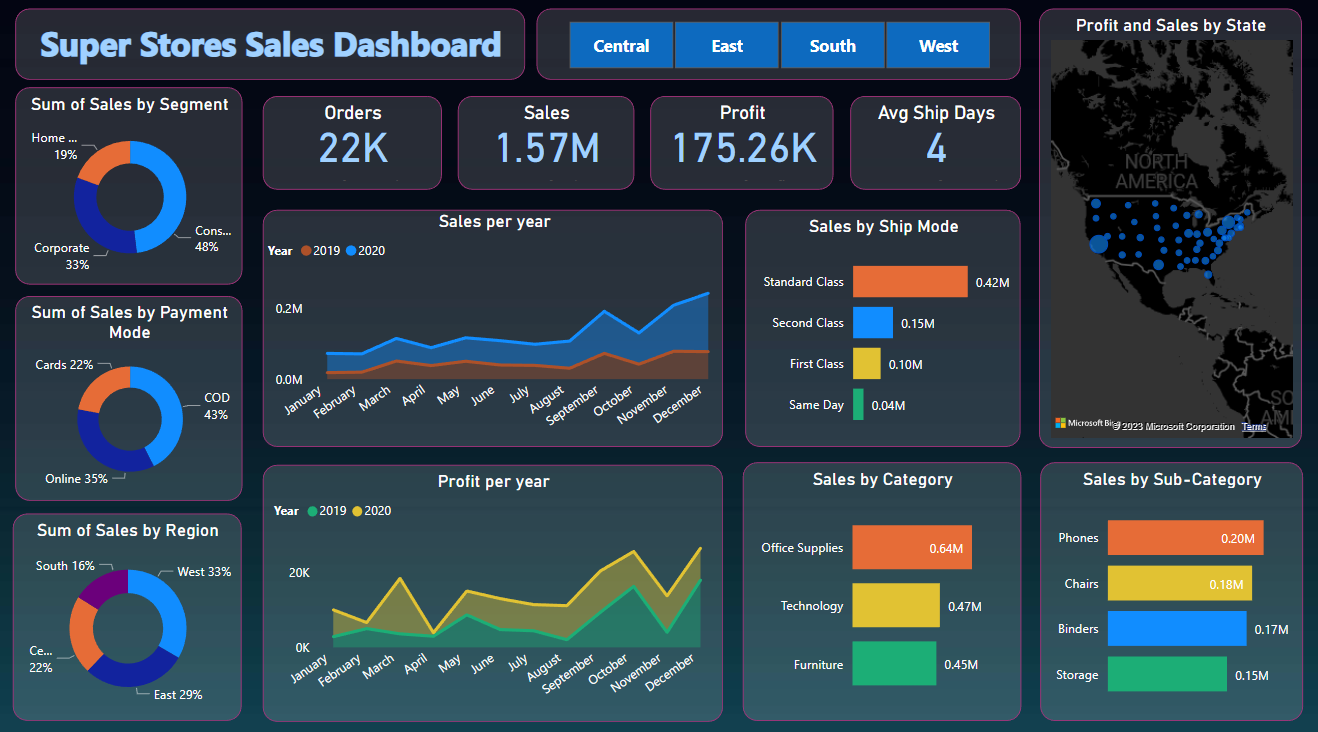

What the dashboard file says about the page in this screenshot:
{"tool":"powerbi","page":{"name":"Page 1","canvas":[1280,720],"ordinal":0},"visuals":[{"type":"clusteredBarChart","title":"Sales by Category","fields":{"Category":["SuperStore_Sales_Dataset.Category"],"Y":["Sum(SuperStore_Sales_Dataset.Sales)"]},"box":[717.1,455.2,268.7,249.5],"z":0},{"type":"clusteredBarChart","title":"Sales by Sub-Category","fields":{"Y":["Sum(SuperStore_Sales_Dataset.Sales)"],"Category":["SuperStore_Sales_Dataset.Sub-Category"]},"box":[1005,455.2,253.6,249.5],"z":1000},{"type":"clusteredBarChart","title":"Sales by Ship Mode","fields":{"Y":["Sum(SuperStore_Sales_Dataset.Sales)"],"Category":["SuperStore_Sales_Dataset.Ship Mode"]},"box":[719.8,211.1,266,229],"z":2000},{"type":"stackedAreaChart","title":" Sales per year","fields":{"Category":["SuperStore_Sales_Dataset.Order Date.Variation.Date Hierarchy.Month"],"Series":["SuperStore_Sales_Dataset.Order Date.Variation.Date Hierarchy.Year"],"Y":["Sum(SuperStore_Sales_Dataset.Sales)"]},"box":[255,211.1,444.2,229],"z":3000},{"type":"stackedAreaChart","title":"Profit per year","fields":{"Category":["SuperStore_Sales_Dataset.Order Date.Variation.Date Hierarchy.Month"],"Series":["SuperStore_Sales_Dataset.Order Date.Variation.Date Hierarchy.Year"],"Y":["Sum(SuperStore_Sales_Dataset.Profit)"]},"box":[255,456.6,444.2,248.2],"z":4000},{"type":"map","title":"Profit and Sales by State","fields":{"Category":["SuperStore_Sales_Dataset.State"],"Size":["Sum(SuperStore_Sales_Dataset.Sales)"]},"box":[1003.6,16.5,253.6,423.7],"z":5000},{"type":"donutChart","fields":{"Category":["SuperStore_Sales_Dataset.Segment"],"Y":["Sum(SuperStore_Sales_Dataset.Sales)"]},"box":[15.1,93.2,219.4,190.6],"z":6000},{"type":"donutChart","fields":{"Category":["SuperStore_Sales_Dataset.Payment Mode"],"Y":["Sum(SuperStore_Sales_Dataset.Sales)"]},"box":[15.1,294.8,219.4,197.4],"z":7000},{"type":"slicer","fields":{"Values":["SuperStore_Sales_Dataset.Region"]},"box":[518.3,16.5,467.5,68.6],"z":8000},{"type":"textbox","box":[15.1,16.5,492.2,68.6],"z":9000},{"type":"card","title":"Sales","fields":{"Values":["Sum(SuperStore_Sales_Dataset.Sales)"]},"box":[442.8,101.5,170,90.5],"z":10000},{"type":"card","title":"Orders","fields":{"Values":["Sum(SuperStore_Sales_Dataset.Quantity)"]},"box":[255,101.5,172.8,90.5],"z":11000},{"type":"card","title":"Profit","fields":{"Values":["Sum(SuperStore_Sales_Dataset.Profit)"]},"box":[627.9,101.5,176.9,90.5],"z":12000},{"type":"card","title":"Avg Ship Days","fields":{"Values":["Avg(SuperStore_Sales_Dataset.AvgDelivery)"]},"box":[821.3,101.5,164.5,90.5],"z":13000},{"type":"donutChart","fields":{"Y":["Sum(SuperStore_Sales_Dataset.Sales)"],"Category":["SuperStore_Sales_Dataset.Region"]},"box":[13.7,504.5,220.7,200.2],"z":14000}]}

Visuals, with their boxes in screenshot pixels (x1, y1, x2, y2), scaled from the page's 1280x720 canvas onto the 1318x732 screenshot:
"Sales by Category" clusteredBarChart: box=[738, 463, 1015, 716]
"Sales by Sub-Category" clusteredBarChart: box=[1035, 463, 1296, 716]
"Sales by Ship Mode" clusteredBarChart: box=[741, 215, 1015, 447]
" Sales per year" stackedAreaChart: box=[263, 215, 720, 447]
"Profit per year" stackedAreaChart: box=[263, 464, 720, 717]
"Profit and Sales by State" map: box=[1033, 17, 1295, 448]
donutChart - SuperStore_Sales_Dataset.Segment x Sum(SuperStore_Sales_Dataset.Sales): box=[16, 95, 241, 289]
donutChart - SuperStore_Sales_Dataset.Payment Mode x Sum(SuperStore_Sales_Dataset.Sales): box=[16, 300, 241, 500]
slicer - SuperStore_Sales_Dataset.Region: box=[534, 17, 1015, 87]
textbox: box=[16, 17, 522, 87]
"Sales" card: box=[456, 103, 631, 195]
"Orders" card: box=[263, 103, 441, 195]
"Profit" card: box=[647, 103, 829, 195]
"Avg Ship Days" card: box=[846, 103, 1015, 195]
donutChart - Sum(SuperStore_Sales_Dataset.Sales) x SuperStore_Sales_Dataset.Region: box=[14, 513, 241, 716]
